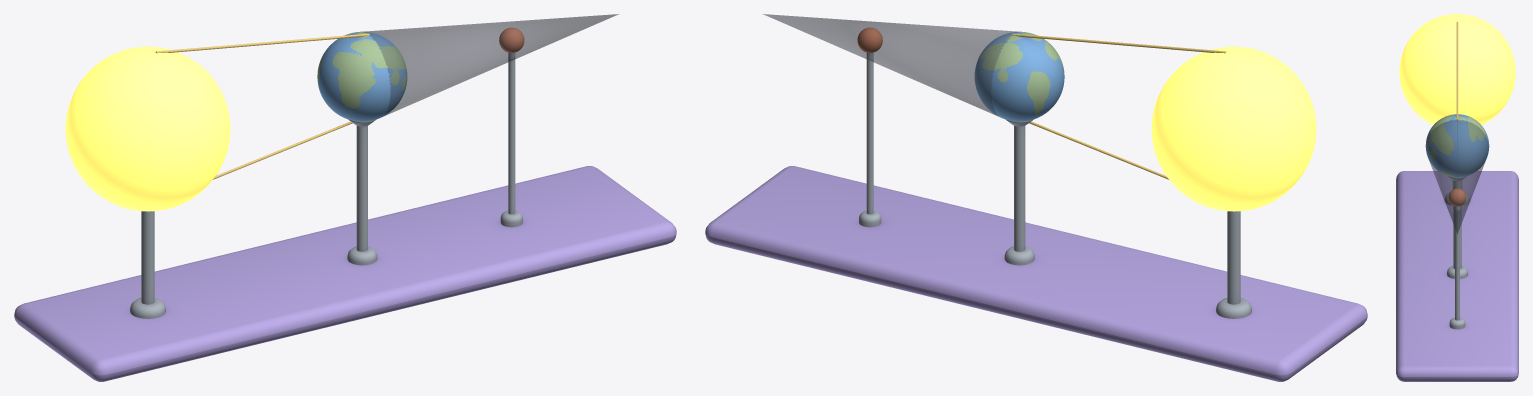
File: lunar-eclipse.glb
3 renders of one model, left to right at view 1: azimuth 30°, elevation 25°; view 2: azimuth 150°, elevation 25°; view 3: azimuth 270°, elevation 25°, orthographic. The views are drawn at different scales.
Visible parts, largest first — view 1: lunar-eclipse_body, lunar-eclipse_sun_glow, lunar-eclipse_umbra_glass; view 2: lunar-eclipse_body, lunar-eclipse_sun_glow, lunar-eclipse_umbra_glass; view 3: lunar-eclipse_body, lunar-eclipse_sun_glow, lunar-eclipse_umbra_glass.
Part boxes in pixels (x1,y1,x2,y2): lunar-eclipse_body: [14, 27, 676, 381]; lunar-eclipse_sun_glow: [65, 46, 230, 211]; lunar-eclipse_umbra_glass: [364, 14, 618, 116]; lunar-eclipse_body: [705, 27, 1367, 381]; lunar-eclipse_sun_glow: [1151, 46, 1316, 211]; lunar-eclipse_umbra_glass: [763, 14, 1017, 116]; lunar-eclipse_body: [1396, 21, 1518, 381]; lunar-eclipse_sun_glow: [1399, 14, 1515, 124]; lunar-eclipse_umbra_glass: [1426, 120, 1488, 234].
Bounding box in the file's own units: 0.45 × 0.2055 × 0.116.
3 materials, 1 textured.
